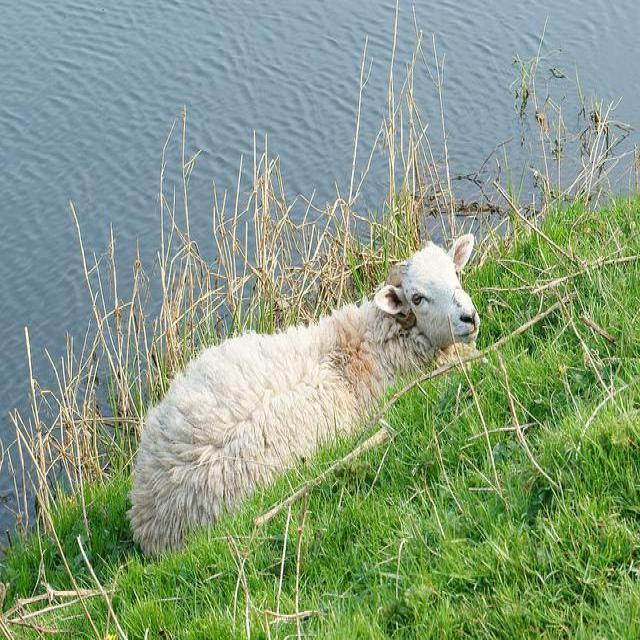Sheep: (128, 234, 482, 566)
